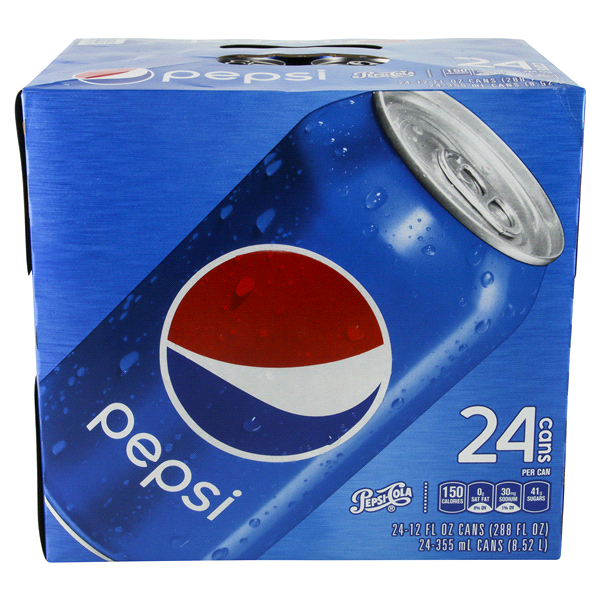pepsi: (156, 243, 391, 463), (161, 254, 391, 463)
